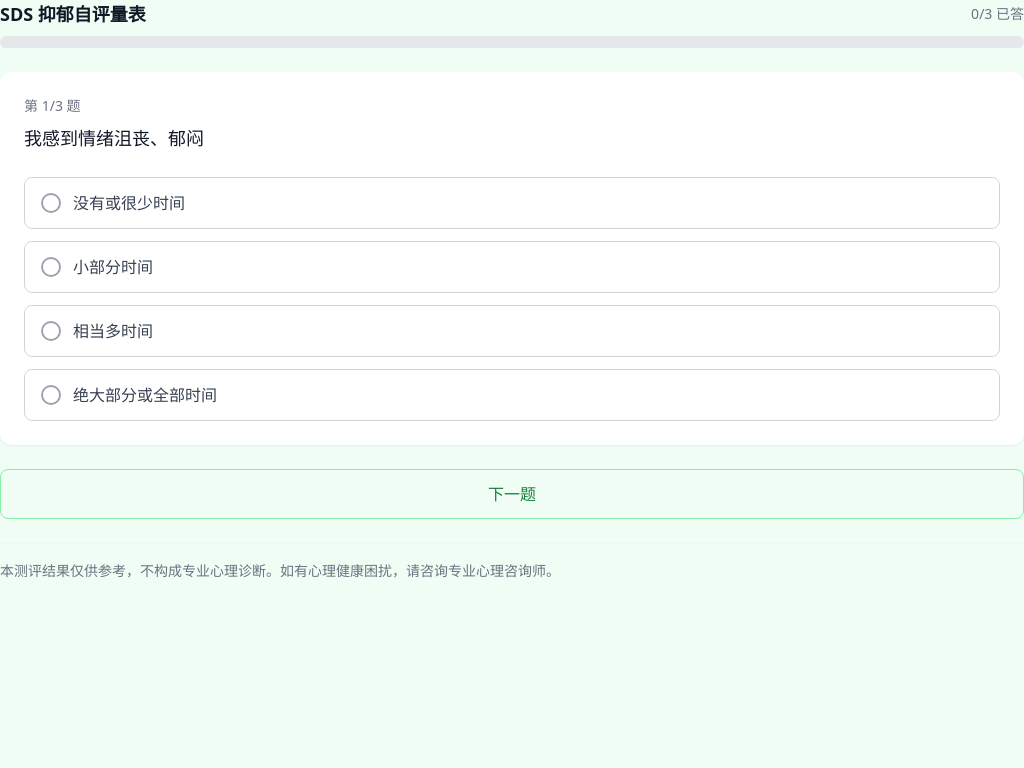
Test: AssessmentPage › shows unanswered confirmation dialog when submitting with unanswered questions
The width and height of the screenshot is (1024, 768).
Expected: the text "我感到情绪沮丧、郁闷" is shown, [24,126,204,150]
// Answer first question
Click the button "没有或很少时间": point(129, 203) [24,177,1000,229]
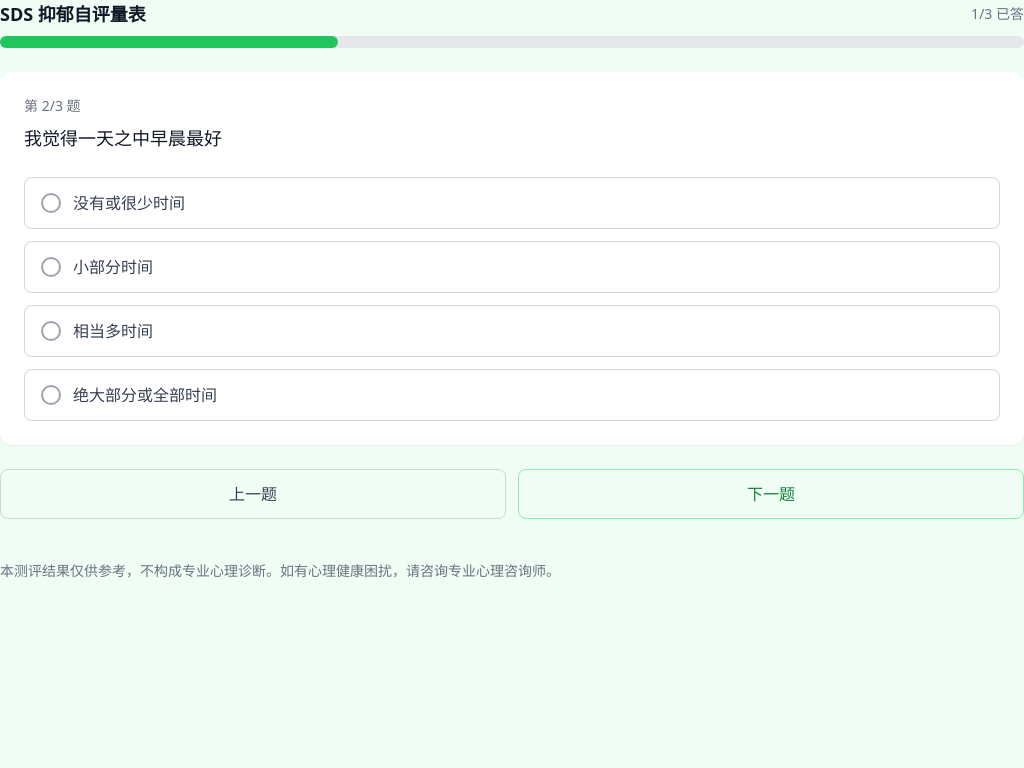
Expected: the text "我觉得一天之中早晨最好" is shown, [24,126,222,150]
// Answer second question to advance to third
Click the button "相当多时间": point(113, 331) [24,305,1000,357]
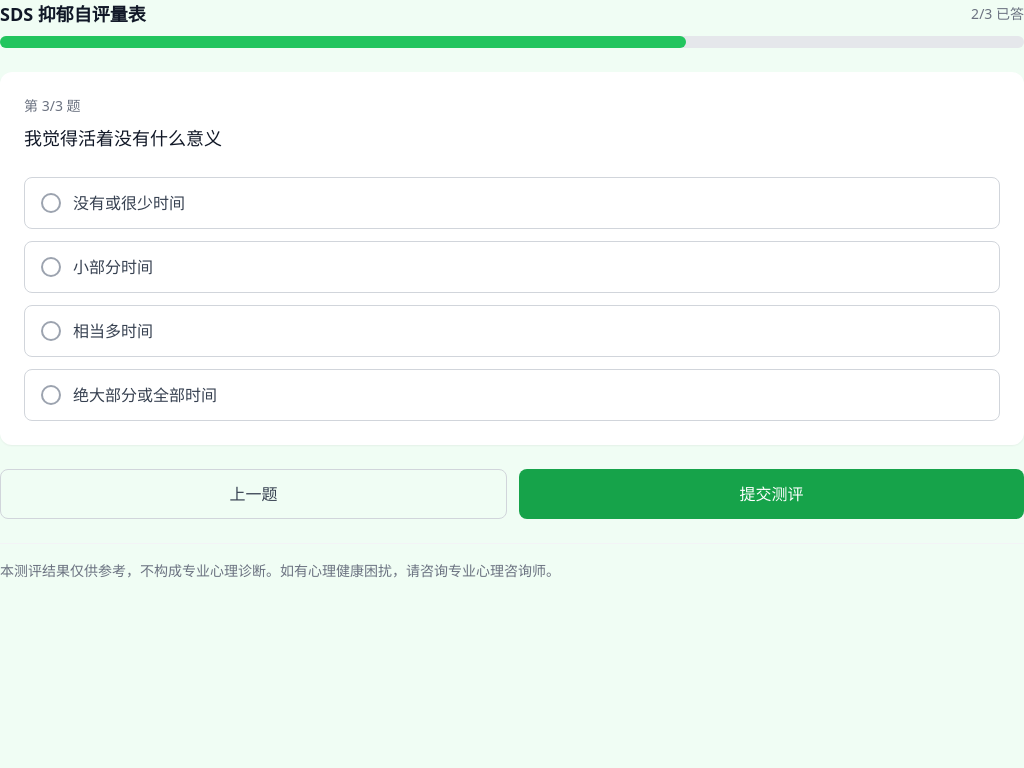
Expected: the text "我觉得活着没有什么意义" is shown, [24,126,222,150]
// Click submit without answering last question
Click the button "提交测评": point(772, 494) [519,469,1023,519]
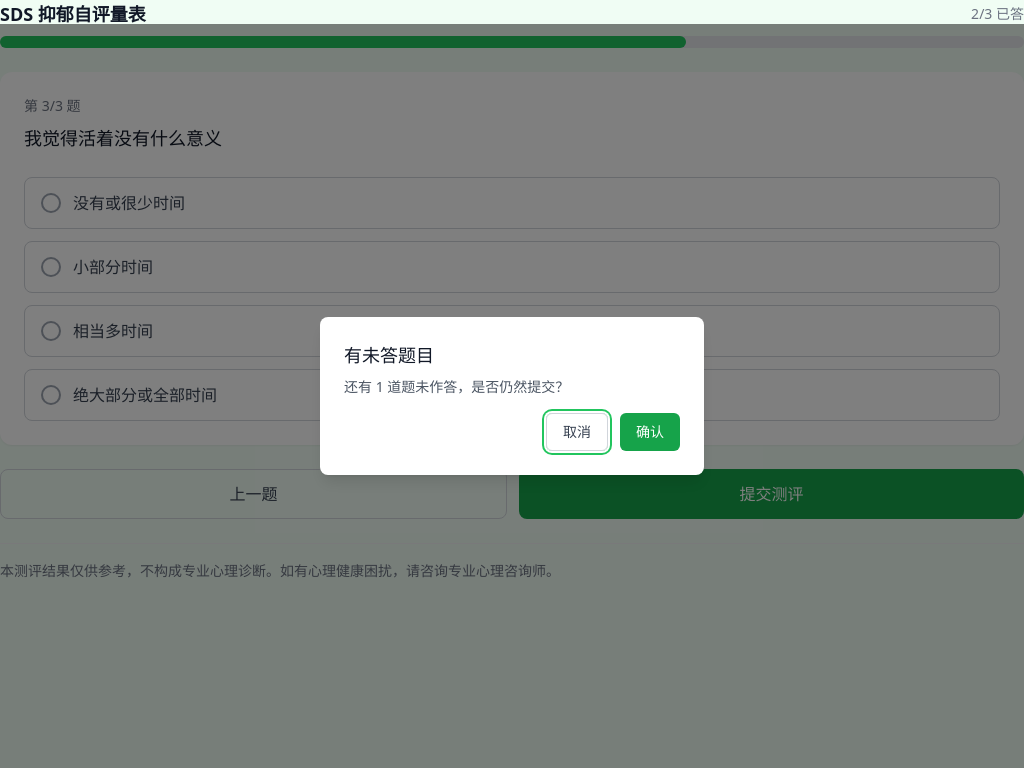
Expected: the heading "有未答题目" is shown, [344,343,434,367]
Expected: the text "还有 1 道题未作答，是否仍然提交？" is shown, [344,377,569,396]
